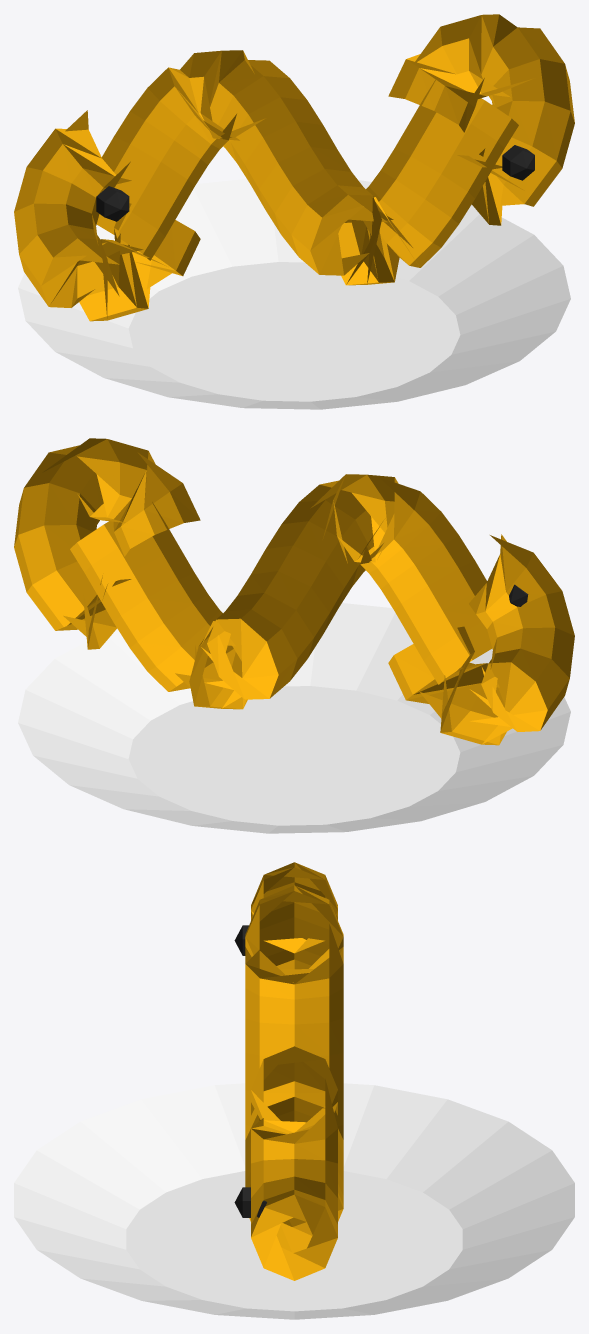
The model's file is lussekatt.glb.
The picture shows the model from 3 angles, top to bottom: view 1: azimuth 30°, elevation 25°; view 2: azimuth 150°, elevation 25°; view 3: azimuth 270°, elevation 25°; orthographic projection. The views are drawn at different scales.
Parts seen in each view (by area): view 1: lussekatt; view 2: lussekatt; view 3: lussekatt.
Boxes of the visible parts, box(x1,y1,x2,y2) form: lussekatt: box(14, 14, 574, 409); lussekatt: box(14, 438, 574, 833); lussekatt: box(14, 862, 574, 1319).
Bounding box in the file's own units: 0.599 × 0.3102 × 0.5147.
